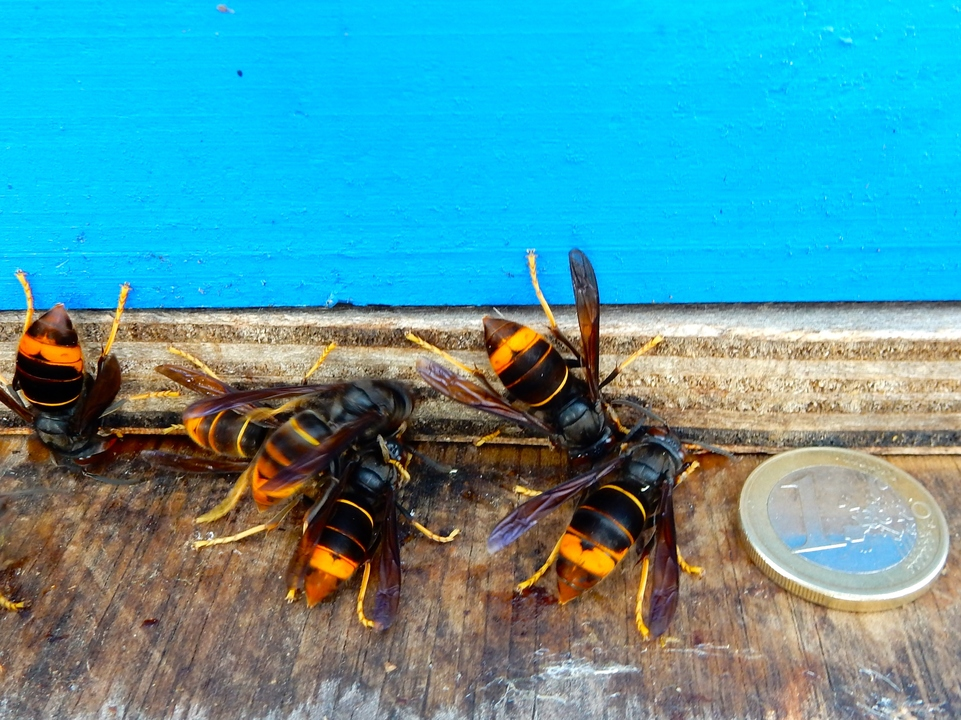hornet: (555, 407, 702, 638), (297, 422, 436, 627), (453, 297, 631, 456), (8, 272, 133, 487), (153, 352, 360, 472), (226, 379, 432, 496)
